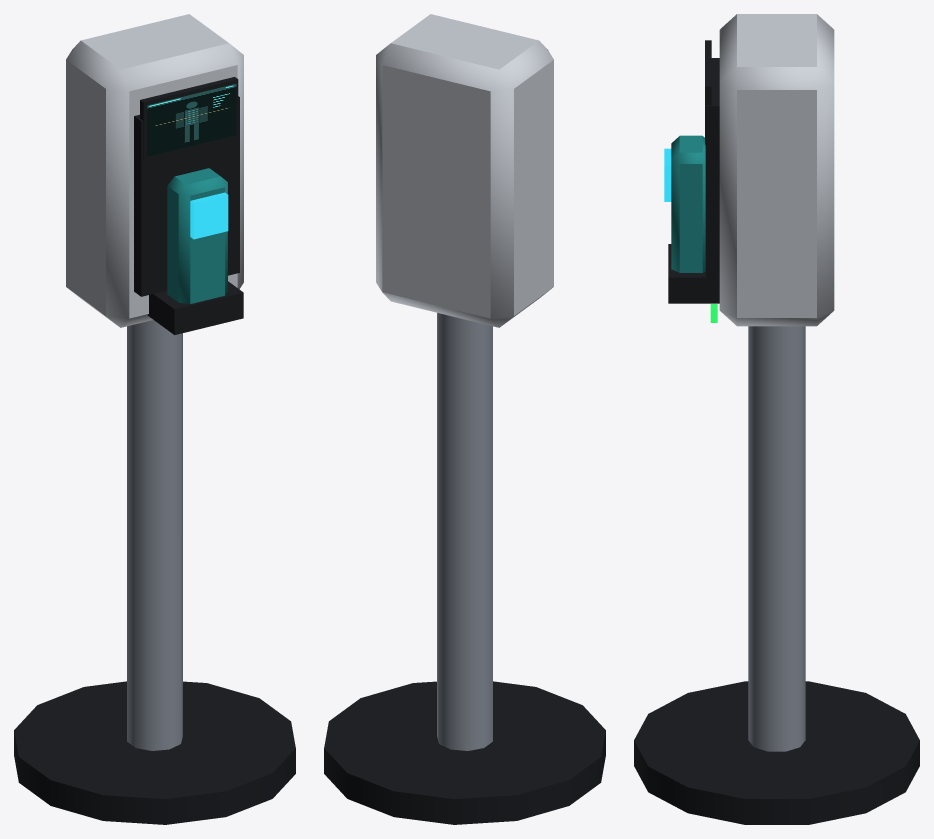
Rendered from medscanner_handheld_scanner_dock.glb.
3 views of the same model, side by side, from view 1: azimuth 30°, elevation 25°; view 2: azimuth 150°, elevation 25°; view 3: azimuth 270°, elevation 25° (orthographic).
Visible parts, largest first — view 1: medscanner_handheld_scanner_dock; view 2: medscanner_handheld_scanner_dock; view 3: medscanner_handheld_scanner_dock.
Part boxes in pixels (x1,y1,x2,y2): medscanner_handheld_scanner_dock: (14, 14, 295, 824); medscanner_handheld_scanner_dock: (324, 14, 605, 824); medscanner_handheld_scanner_dock: (634, 14, 919, 824).
Bounding box in the file's own units: 0.4875 × 1.4 × 0.5.
Materials: 7 (1 with a texture image).
